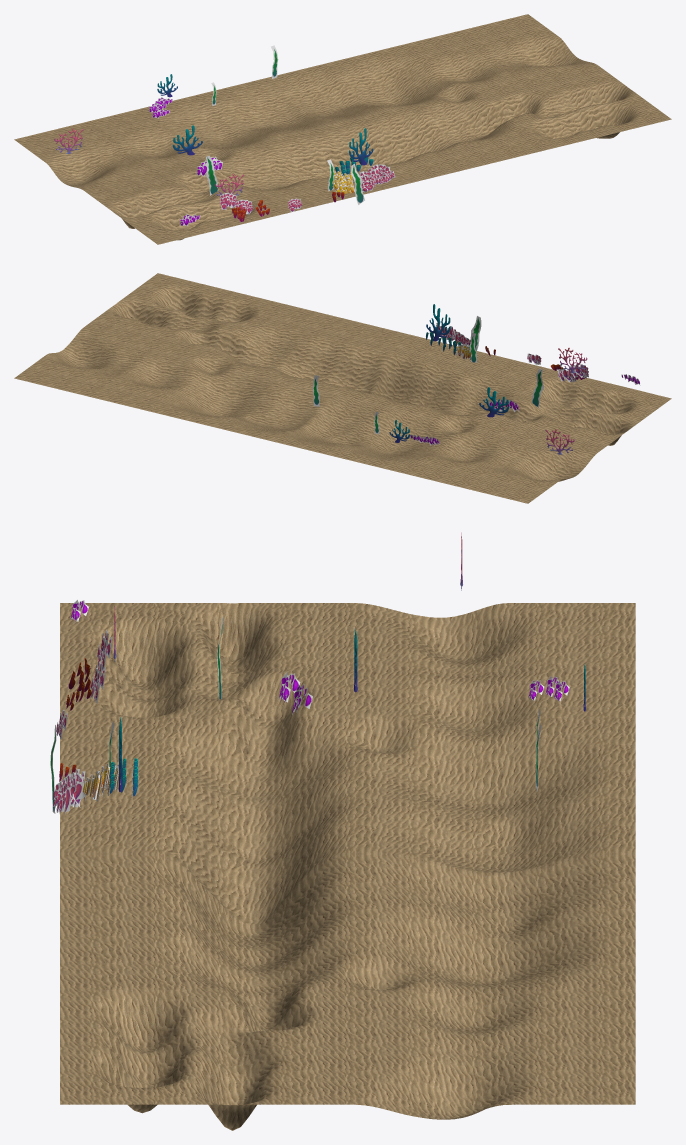
Rendered from 2changj.FBX.
3 renders of one model, top to bottom at view 1: azimuth 30°, elevation 25°; view 2: azimuth 150°, elevation 25°; view 3: azimuth 270°, elevation 25°, orthographic. The views are drawn at different scales.
Parts seen in each view (by area): view 1: Plane273, Group001, Circle001, Group002, Circle003; view 2: Plane273, Circle001, Circle003; view 3: Plane273, Group001.
Boxes of the visible parts, left/top/right/bottom form: Plane273: left=14, top=14, right=671, bottom=244; Group001: left=354, top=164, right=395, bottom=192; Circle001: left=349, top=128, right=373, bottom=165; Group002: left=332, top=171, right=354, bottom=193; Circle003: left=172, top=125, right=202, bottom=155; Plane273: left=14, top=273, right=671, bottom=503; Circle001: left=426, top=304, right=450, bottom=341; Circle003: left=479, top=387, right=509, bottom=417; Plane273: left=60, top=603, right=635, bottom=1130; Group001: left=52, top=769, right=85, bottom=814.
Bounding box in the file's own units: 939 × 158 × 460.
